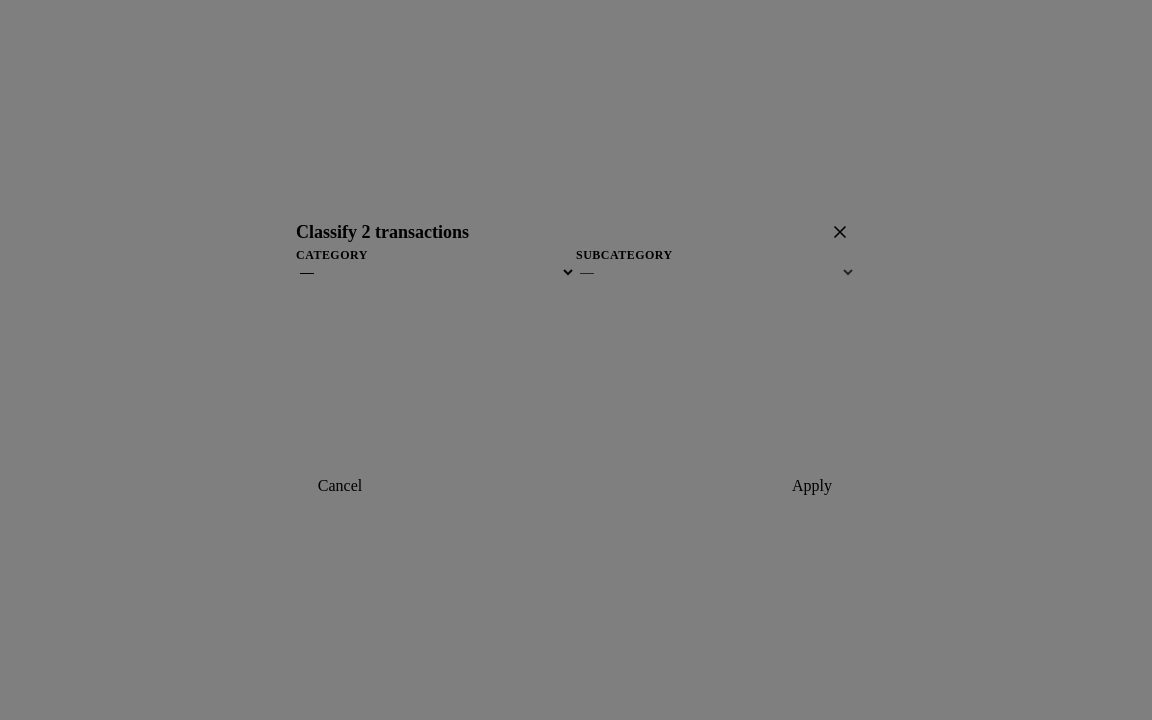
Test case: BulkClassifyModal › renders failures and keeps the modal open when the IPC returns ok=false
Click the button "Apply" at (812, 486), box [768, 468, 856, 504]
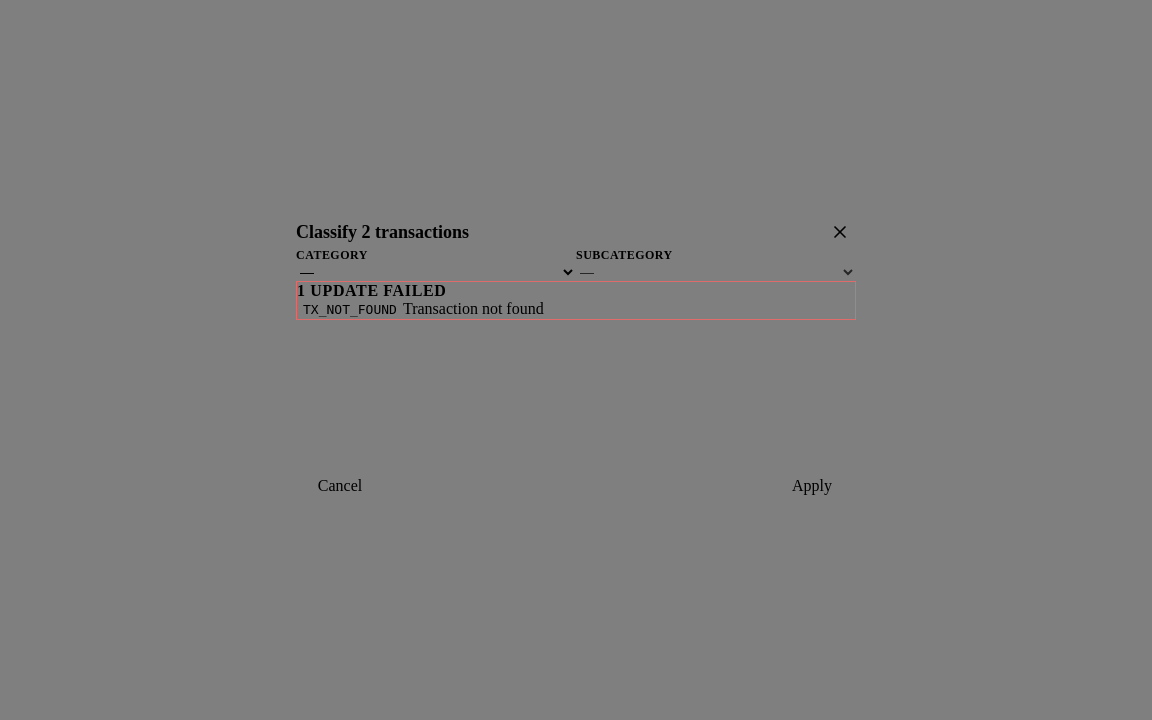
Result: the text "TX_NOT_FOUND" is shown at [297, 300, 403, 319]
Result: the text "Transaction not found" is shown at [403, 300, 544, 318]
